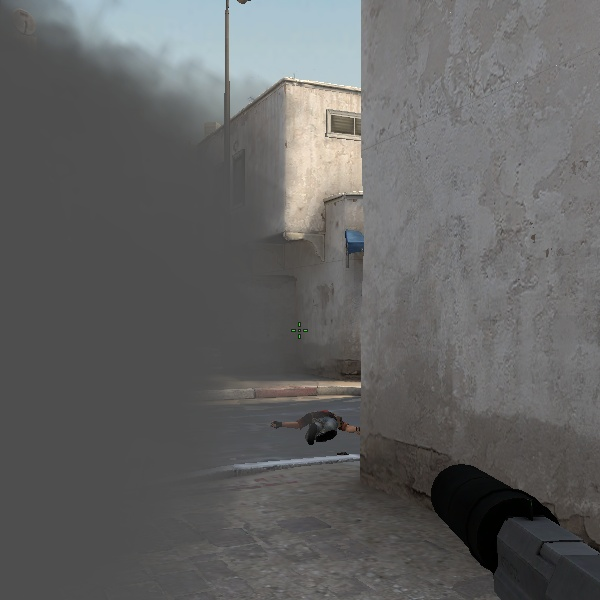ct_body: (299, 416, 346, 451)
